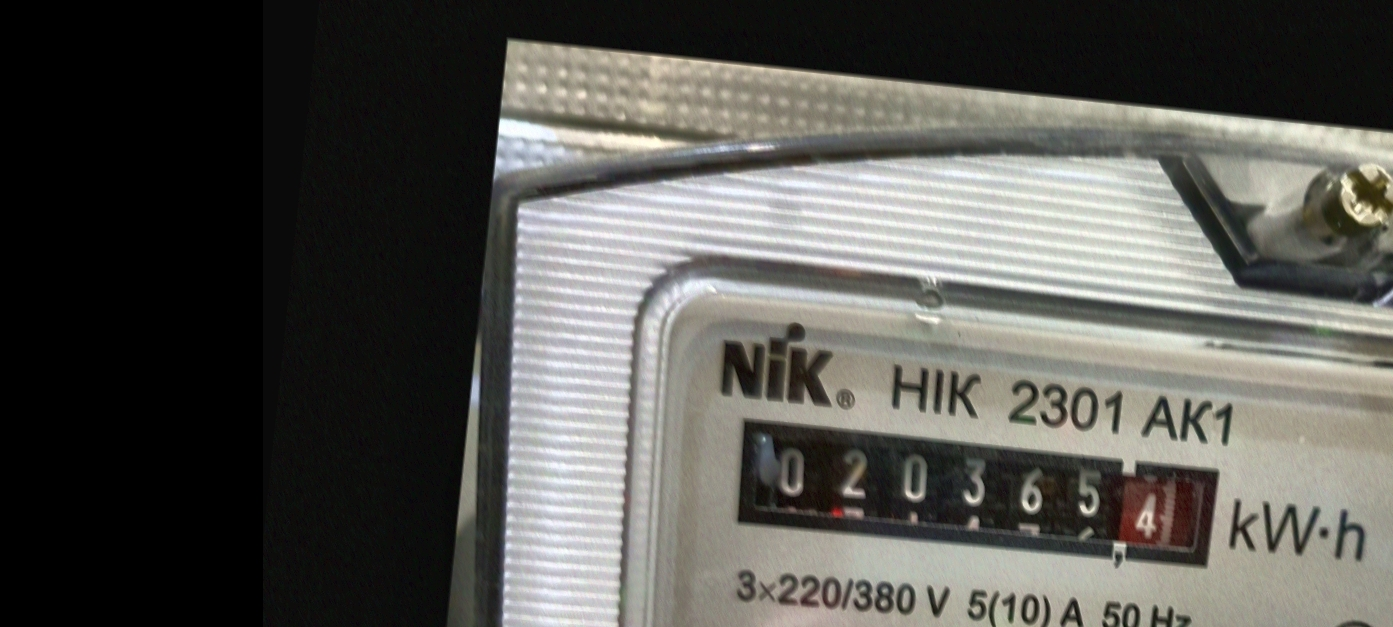0: (774, 443, 813, 501), (900, 453, 934, 505)
2: (838, 447, 874, 501)
3: (959, 457, 993, 509)
4: (1133, 490, 1161, 541)
5: (1075, 470, 1107, 519)
6: (1018, 464, 1048, 517)
screen: (719, 402, 1238, 591)
